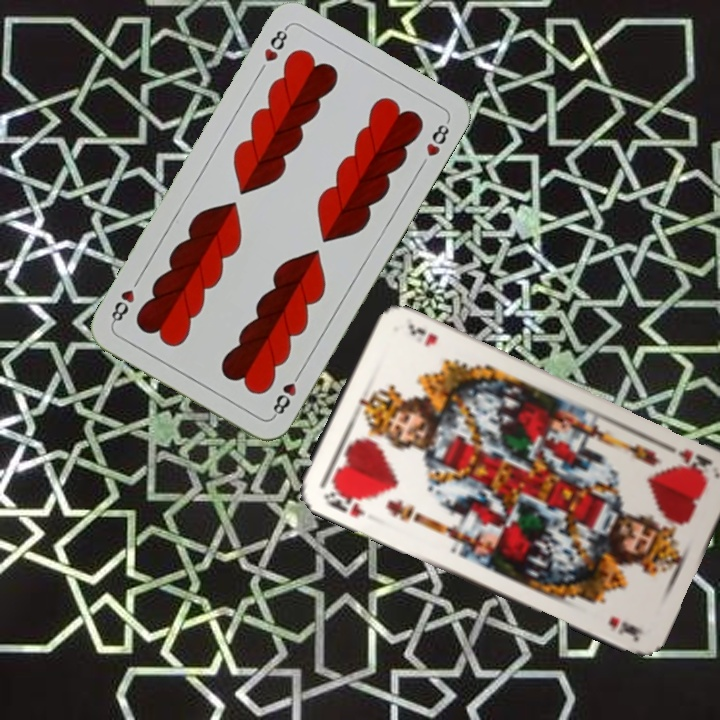H8: (268, 366, 305, 420), (259, 22, 291, 65)
HK: (659, 439, 715, 475), (319, 484, 367, 521)
